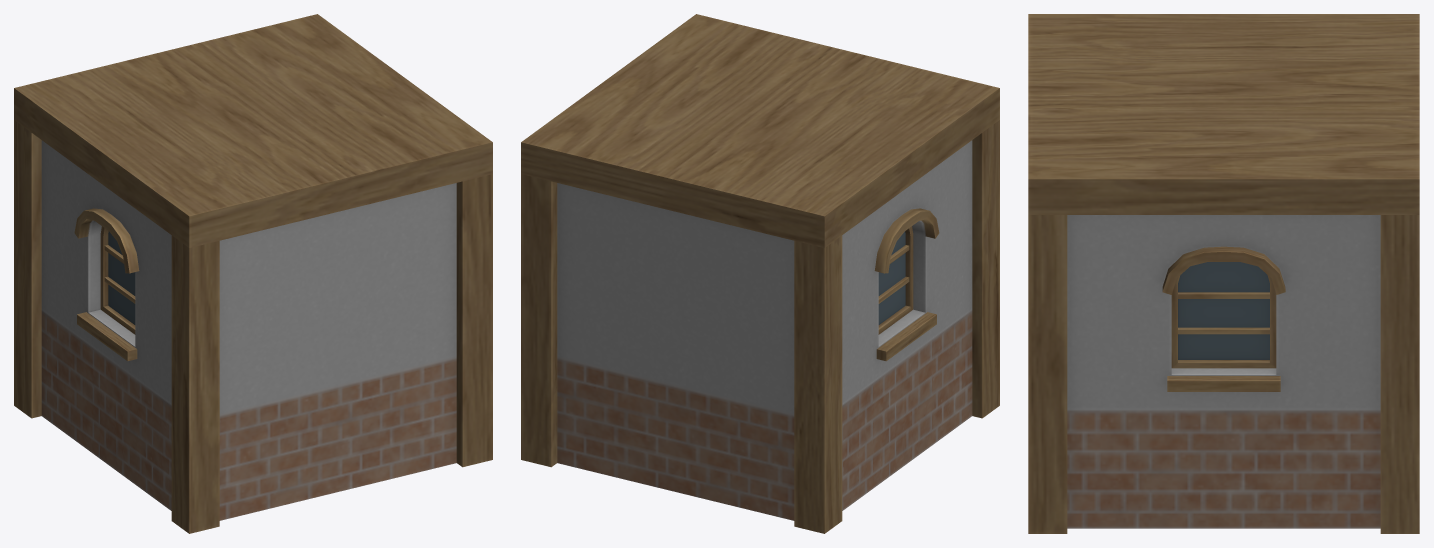
The model's file is sb_obj_outdoor028_house01_wall01.fbx.
The picture shows the model from 3 angles, left to right: view 1: azimuth 30°, elevation 25°; view 2: azimuth 150°, elevation 25°; view 3: azimuth 270°, elevation 25°; orthographic projection. The views are drawn at different scales.
Parts seen in each view (by area): view 1: sb_obj_outdoor028_house01_wall01; view 2: sb_obj_outdoor028_house01_wall01; view 3: sb_obj_outdoor028_house01_wall01.
Boxes of the visible parts, x1=… form: sb_obj_outdoor028_house01_wall01: x1=14, y1=14, x2=492, y2=533; sb_obj_outdoor028_house01_wall01: x1=521, y1=14, x2=999, y2=533; sb_obj_outdoor028_house01_wall01: x1=1028, y1=14, x2=1419, y2=533.
Bounding box in the file's own units: 3 × 3 × 3.
